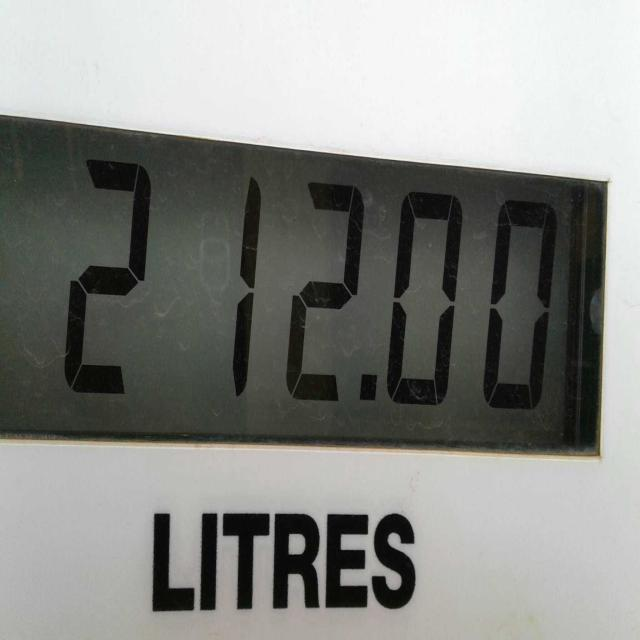.: (350, 364, 384, 422)
0: (477, 193, 560, 444), (387, 188, 463, 417)
1: (203, 166, 278, 410)
2: (56, 149, 171, 414), (284, 171, 365, 413)
